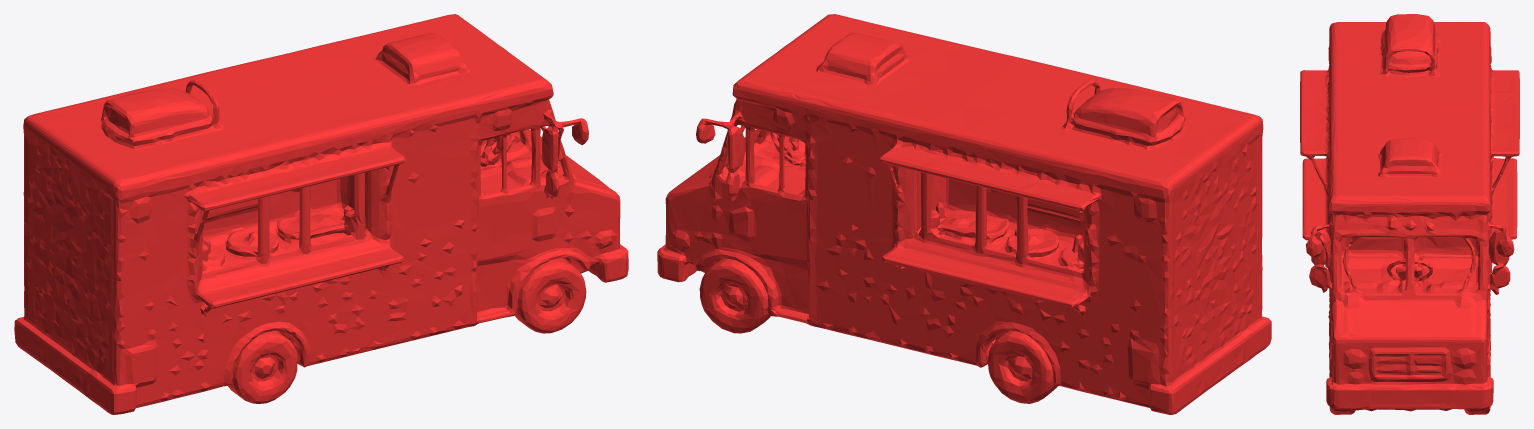
Rendered from car.glb.
3 views of the same model, side by side, from view 1: azimuth 30°, elevation 25°; view 2: azimuth 150°, elevation 25°; view 3: azimuth 270°, elevation 25° (orthographic). The views are drawn at different scales.
Visible parts, largest first — view 1: white_mesh; view 2: white_mesh; view 3: white_mesh.
Part boxes in pixels (box(x1,y1,x2,y2)): white_mesh: box(14, 14, 628, 414); white_mesh: box(657, 14, 1271, 414); white_mesh: box(1300, 14, 1519, 414).
Size of the model in its own units: 1.96 by 1.04 by 0.8611.
